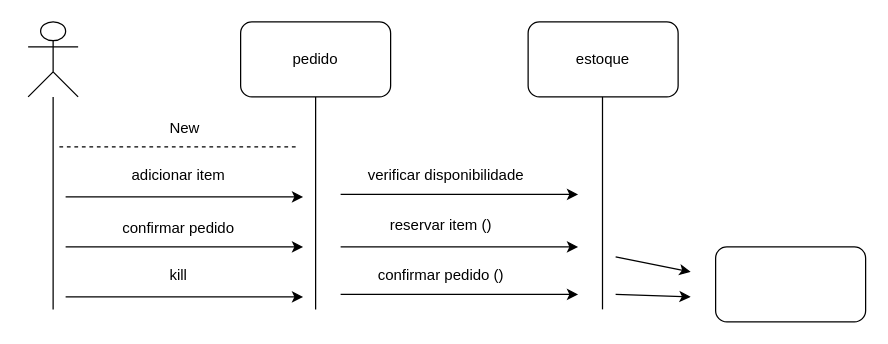
The diagram is 888 pixels wide and 344 high, and some of its shapes have lost their labels. Each missing label, with the centre of its shape:
caixa ativação: the point at 790,284
vendedor: the point at 52,59
